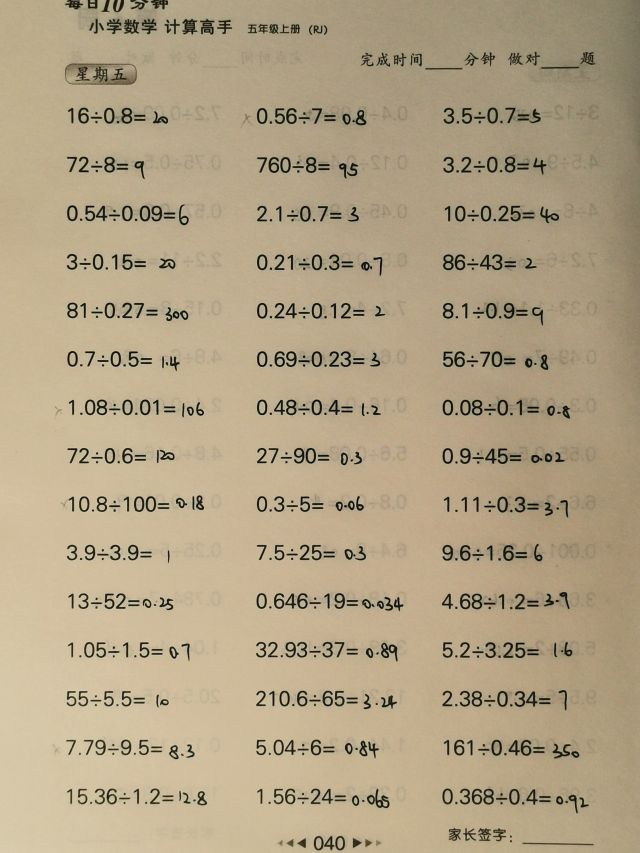equation: (439, 783, 591, 817), (252, 637, 401, 663), (252, 588, 406, 613), (63, 200, 193, 229), (438, 735, 582, 761), (439, 686, 572, 714), (439, 490, 572, 518), (252, 686, 400, 711), (63, 784, 210, 809), (253, 784, 393, 810), (252, 250, 386, 277), (64, 395, 207, 420), (61, 734, 198, 760), (437, 395, 574, 421), (437, 588, 573, 614), (66, 492, 208, 516), (62, 297, 192, 323), (62, 100, 171, 131), (241, 102, 370, 128), (438, 638, 577, 662), (251, 735, 382, 760), (253, 345, 384, 370), (253, 299, 389, 323), (63, 637, 193, 662), (62, 345, 182, 372), (438, 296, 548, 325), (438, 444, 570, 468), (253, 396, 385, 420), (441, 200, 562, 226), (253, 151, 362, 179), (438, 345, 551, 372), (253, 442, 365, 468), (438, 151, 549, 177), (254, 541, 370, 565), (64, 250, 180, 274), (62, 540, 173, 565), (253, 492, 368, 516), (64, 444, 179, 468), (254, 200, 364, 225), (438, 541, 547, 566), (64, 589, 176, 613), (63, 687, 174, 711), (441, 103, 545, 128), (438, 251, 541, 275), (63, 151, 149, 179)
